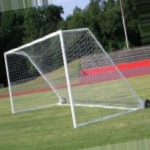goals: (3, 29, 140, 126)
